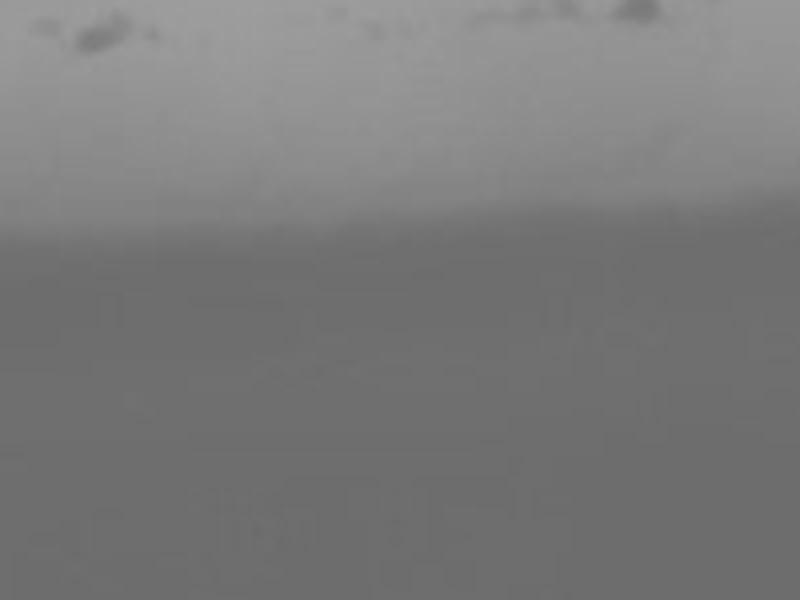defect: (72, 21, 125, 52), (614, 1, 663, 23), (30, 13, 61, 36), (365, 16, 390, 42), (322, 2, 355, 21), (139, 22, 163, 45), (550, 1, 581, 18)
